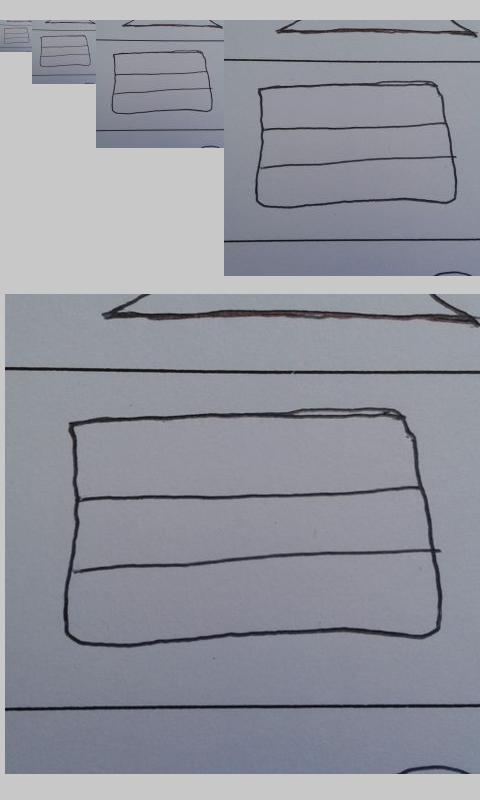list_view: (61, 405, 445, 652), (254, 81, 459, 209), (111, 50, 213, 115), (39, 35, 91, 68), (3, 27, 30, 45)
